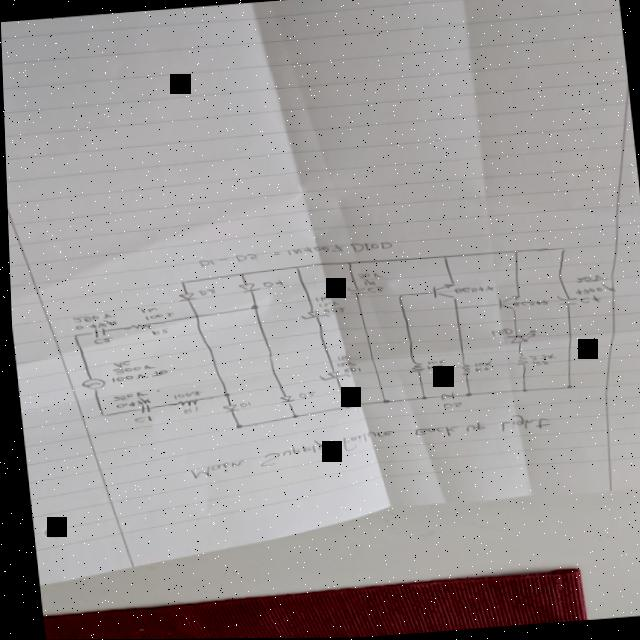capacitor: (552, 295, 575, 308), (85, 327, 108, 339), (342, 286, 366, 297), (134, 404, 150, 414)
crossover: (189, 313, 198, 319)
diode: (501, 331, 535, 345), (314, 370, 347, 381), (296, 310, 327, 320), (233, 282, 258, 294), (172, 292, 195, 303), (434, 392, 453, 402), (217, 404, 236, 413), (274, 395, 293, 404)
junction: (246, 304, 258, 311), (217, 392, 228, 399), (557, 385, 569, 390), (176, 279, 186, 285), (393, 294, 403, 299), (69, 333, 77, 339), (96, 412, 104, 418), (378, 399, 387, 404), (290, 265, 299, 270), (235, 272, 244, 277), (287, 414, 296, 419), (231, 424, 240, 429), (340, 405, 348, 410), (417, 396, 425, 401), (461, 393, 469, 398), (557, 247, 565, 252), (439, 255, 447, 260), (342, 261, 350, 266), (449, 306, 457, 311), (517, 390, 526, 394), (510, 251, 516, 254)
resistor: (119, 322, 149, 332), (167, 398, 195, 408), (403, 362, 422, 374), (512, 353, 525, 368), (457, 364, 468, 377)
source: (76, 376, 104, 392)
text: (181, 412, 550, 480), (193, 239, 391, 268), (107, 370, 165, 383), (571, 283, 613, 296), (69, 312, 113, 324), (70, 319, 115, 330), (108, 364, 152, 375), (450, 285, 492, 296), (111, 398, 148, 409), (508, 299, 546, 309), (108, 392, 145, 402), (168, 390, 199, 401), (573, 275, 605, 285), (140, 312, 172, 320), (576, 295, 600, 305), (524, 354, 553, 362), (259, 279, 282, 289), (318, 307, 344, 315), (354, 272, 380, 280), (487, 328, 510, 337), (89, 336, 111, 345), (314, 301, 337, 309), (177, 406, 196, 415), (439, 402, 459, 410), (332, 362, 354, 369), (338, 367, 357, 375), (293, 392, 314, 399), (110, 360, 128, 368), (148, 328, 166, 336), (129, 415, 148, 422), (194, 289, 213, 296), (359, 278, 373, 287), (363, 287, 381, 294), (471, 361, 489, 368), (136, 308, 155, 314), (311, 296, 327, 303), (529, 360, 545, 366), (470, 367, 486, 373), (423, 364, 439, 370), (423, 360, 442, 365), (333, 356, 347, 362), (236, 401, 248, 408)
transistor: (428, 282, 455, 302), (491, 295, 520, 313)
